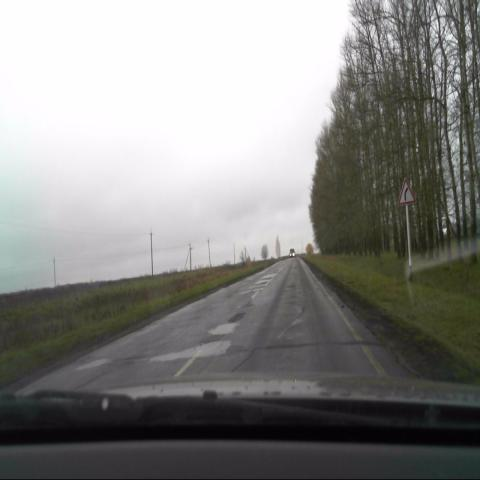1_11: (398, 178, 414, 207)
